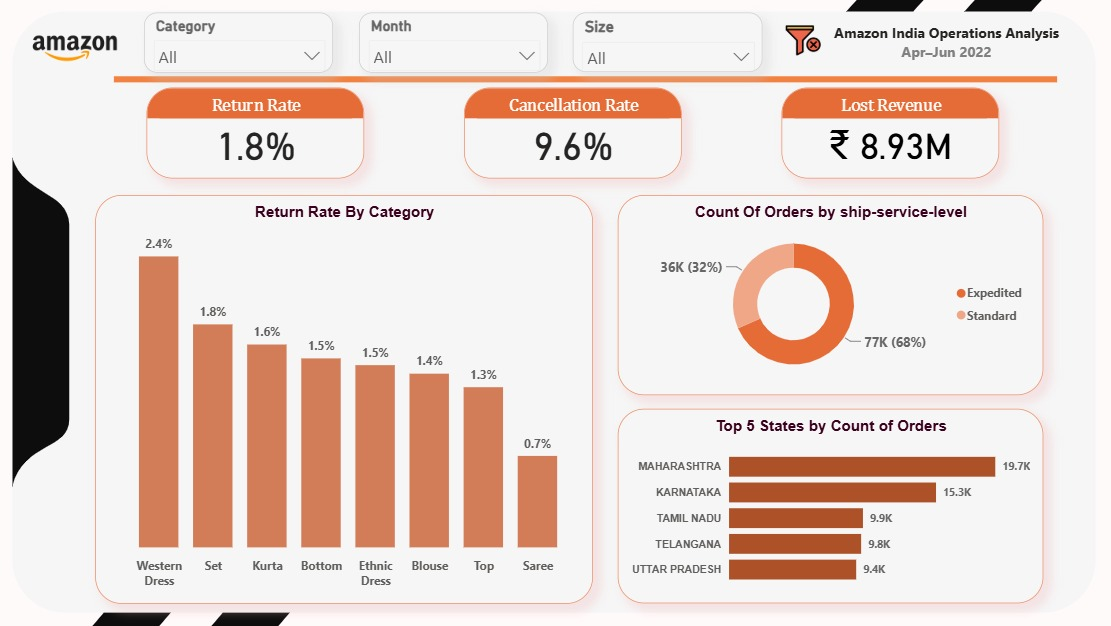

Layout of this report page (visuals, bound fields, positions):
{"tool":"powerbi","page":{"name":"Operation Dashboard","canvas":[1280,720],"ordinal":1},"visuals":[{"type":"clusteredColumnChart","title":"Return Rate By Category","fields":{"Category":["Amazon_Sale_Report.Category"],"Y":["Amazon_Sale_Report.Return Rate Of All"]},"box":[115,222.5,568.8,467.5],"z":0},{"type":"clusteredBarChart","title":"Top 5 States by Count of Orders","fields":{"Category":["Amazon_Sale_Report.ship-state"],"Y":["Amazon_Sale_Report.Count Of Orders"]},"box":[712.5,467.5,486.2,222.5],"z":1000},{"type":"card","title":"Return Rate","fields":{"Values":["Amazon_Sale_Report.Return Rate Of All"]},"box":[175,100,249,104],"z":2000},{"type":"card","title":"Cancellation Rate","fields":{"Values":["Amazon_Sale_Report.Cancellation Rate (OverAll)"]},"box":[537.5,100,249,104],"z":3000},{"type":"cardVisual","title":"Lost Revenue","fields":{"Data":["Amazon_Sale_Report.Lost Revenue"]},"box":[900,100,249,104],"z":4000},{"type":"slicer","fields":{"Values":["Amazon_Sale_Report.Category"]},"box":[172,13.8,216.2,68.8],"z":5000},{"type":"slicer","fields":{"Values":["Amazon_Sale_Report.Date.Variation.Date Hierarchy.Month"]},"box":[417,14,216.2,68.8],"z":6000},{"type":"slicer","fields":{"Values":["Amazon_Sale_Report.Size"]},"box":[662,14,216.6,68.2],"z":7000},{"type":"image","box":[30,11.2,125,83.8],"z":8000},{"type":"donutChart","fields":{"Category":["Amazon_Sale_Report.ship-service-level"],"Y":["Amazon_Sale_Report.Count Of Orders"]},"box":[712.5,222.5,486.2,228.8],"z":9000},{"type":"image","box":[900,22,50,50],"z":10000},{"type":"textbox","box":[950,22,277.1,61.4],"z":11000}]}

Visuals, with their boxes in screenshot pixels (x1, y1, x2, y2), scaled from the page's 1280x720 canvas onto the 1111x626 screenshot:
"Return Rate By Category" clusteredColumnChart: 100,193,594,600
"Top 5 States by Count of Orders" clusteredBarChart: 618,406,1040,600
"Return Rate" card: 152,87,368,177
"Cancellation Rate" card: 467,87,683,177
"Lost Revenue" cardVisual: 781,87,997,177
slicer - Amazon_Sale_Report.Category: 149,12,337,72
slicer - Amazon_Sale_Report.Date.Variation.Date Hierarchy.Month: 362,12,550,72
slicer - Amazon_Sale_Report.Size: 575,12,763,71
image: 26,10,135,83
donutChart - Amazon_Sale_Report.ship-service-level x Amazon_Sale_Report.Count Of Orders: 618,193,1040,392
image: 781,19,825,63
textbox: 825,19,1065,73
